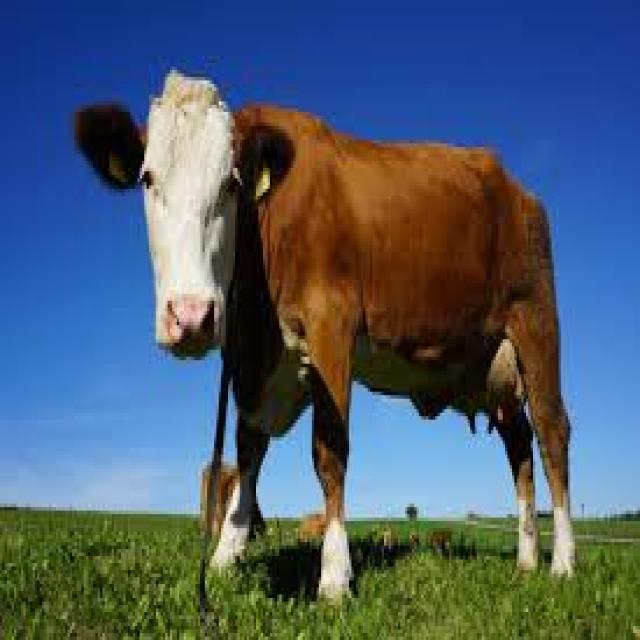cowFace: (77, 35, 296, 392)
